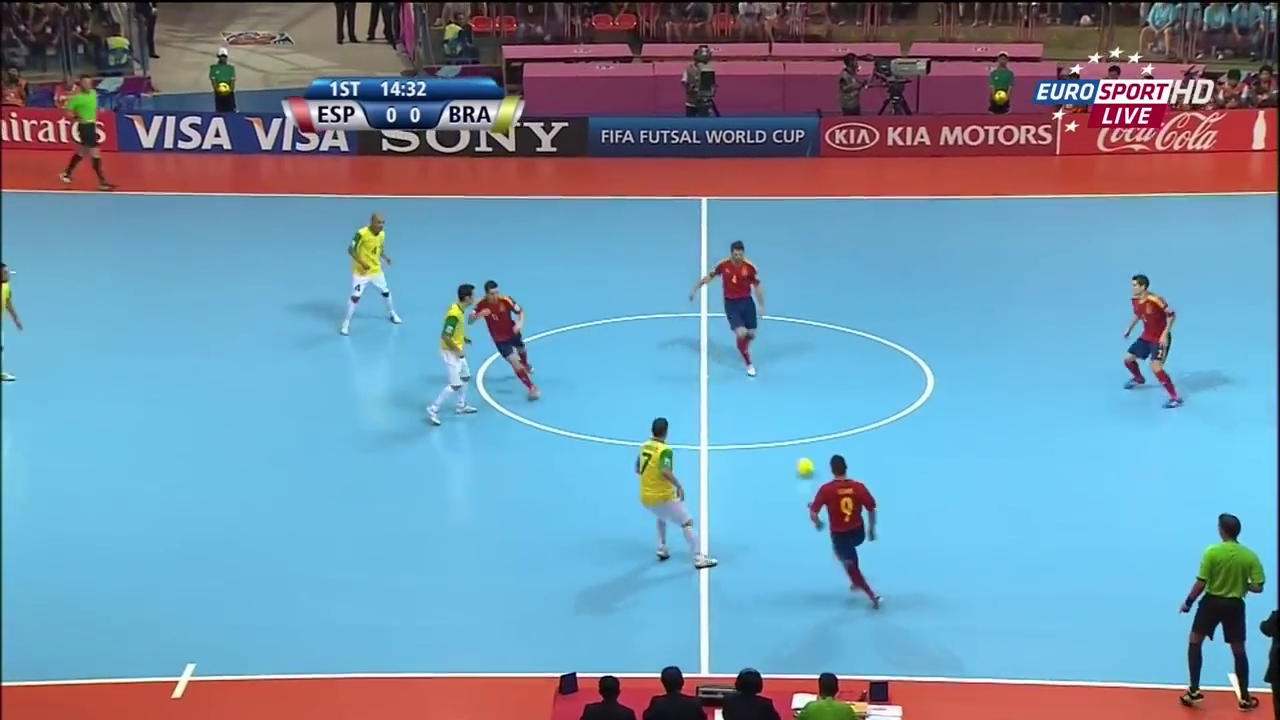ball: (786, 452, 819, 483), (212, 80, 230, 100)
person: (626, 420, 716, 575), (679, 237, 771, 380), (806, 452, 889, 608), (467, 273, 544, 404), (1110, 276, 1186, 408), (426, 279, 479, 431), (341, 210, 400, 335), (3, 258, 27, 404)
